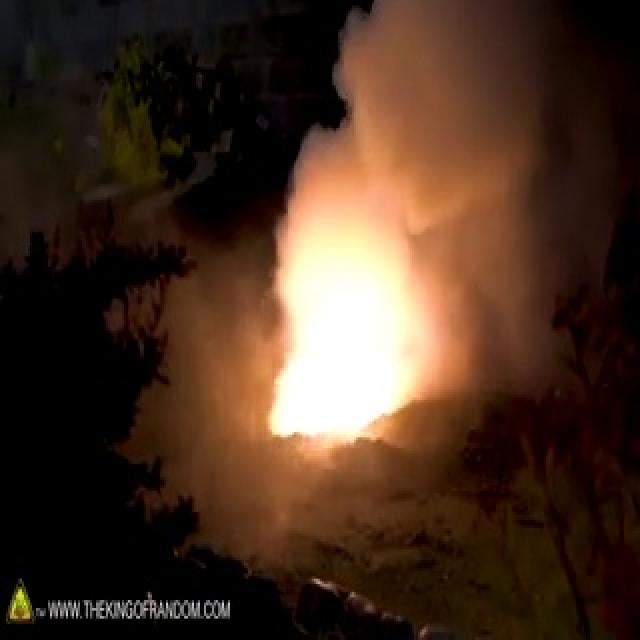fire: (279, 230, 399, 430)
